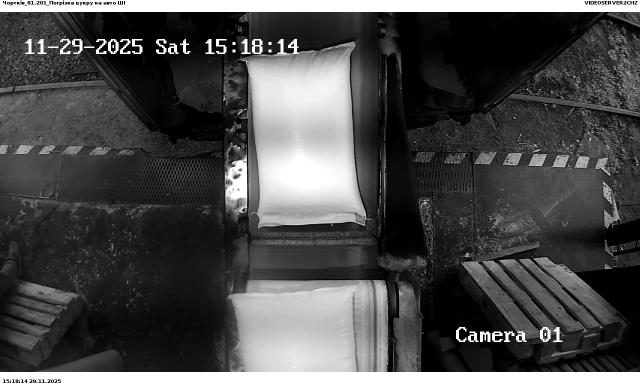bag: (240, 42, 369, 229), (228, 284, 358, 371)
